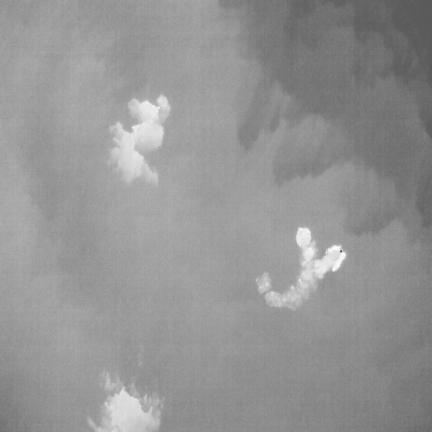flukeprints: (109, 95, 170, 185), (88, 386, 160, 431), (316, 246, 346, 273), (296, 228, 310, 247)
